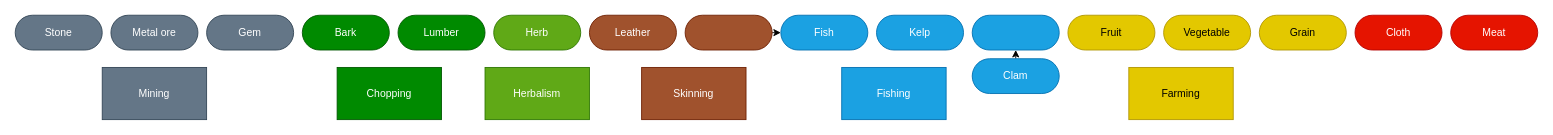
This 1553x135 diagram has some shape labels left out. Here are the shapes that lost their labels. From the top down, the centre of each, then its label:
point (728, 32): Scale
point (1015, 32): Pearl
